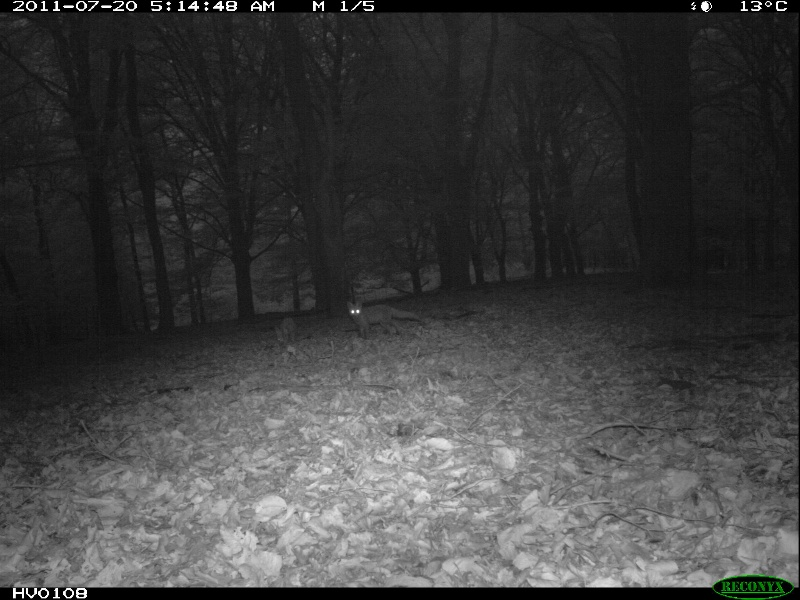fox: (343, 298, 429, 340), (273, 313, 301, 345)
